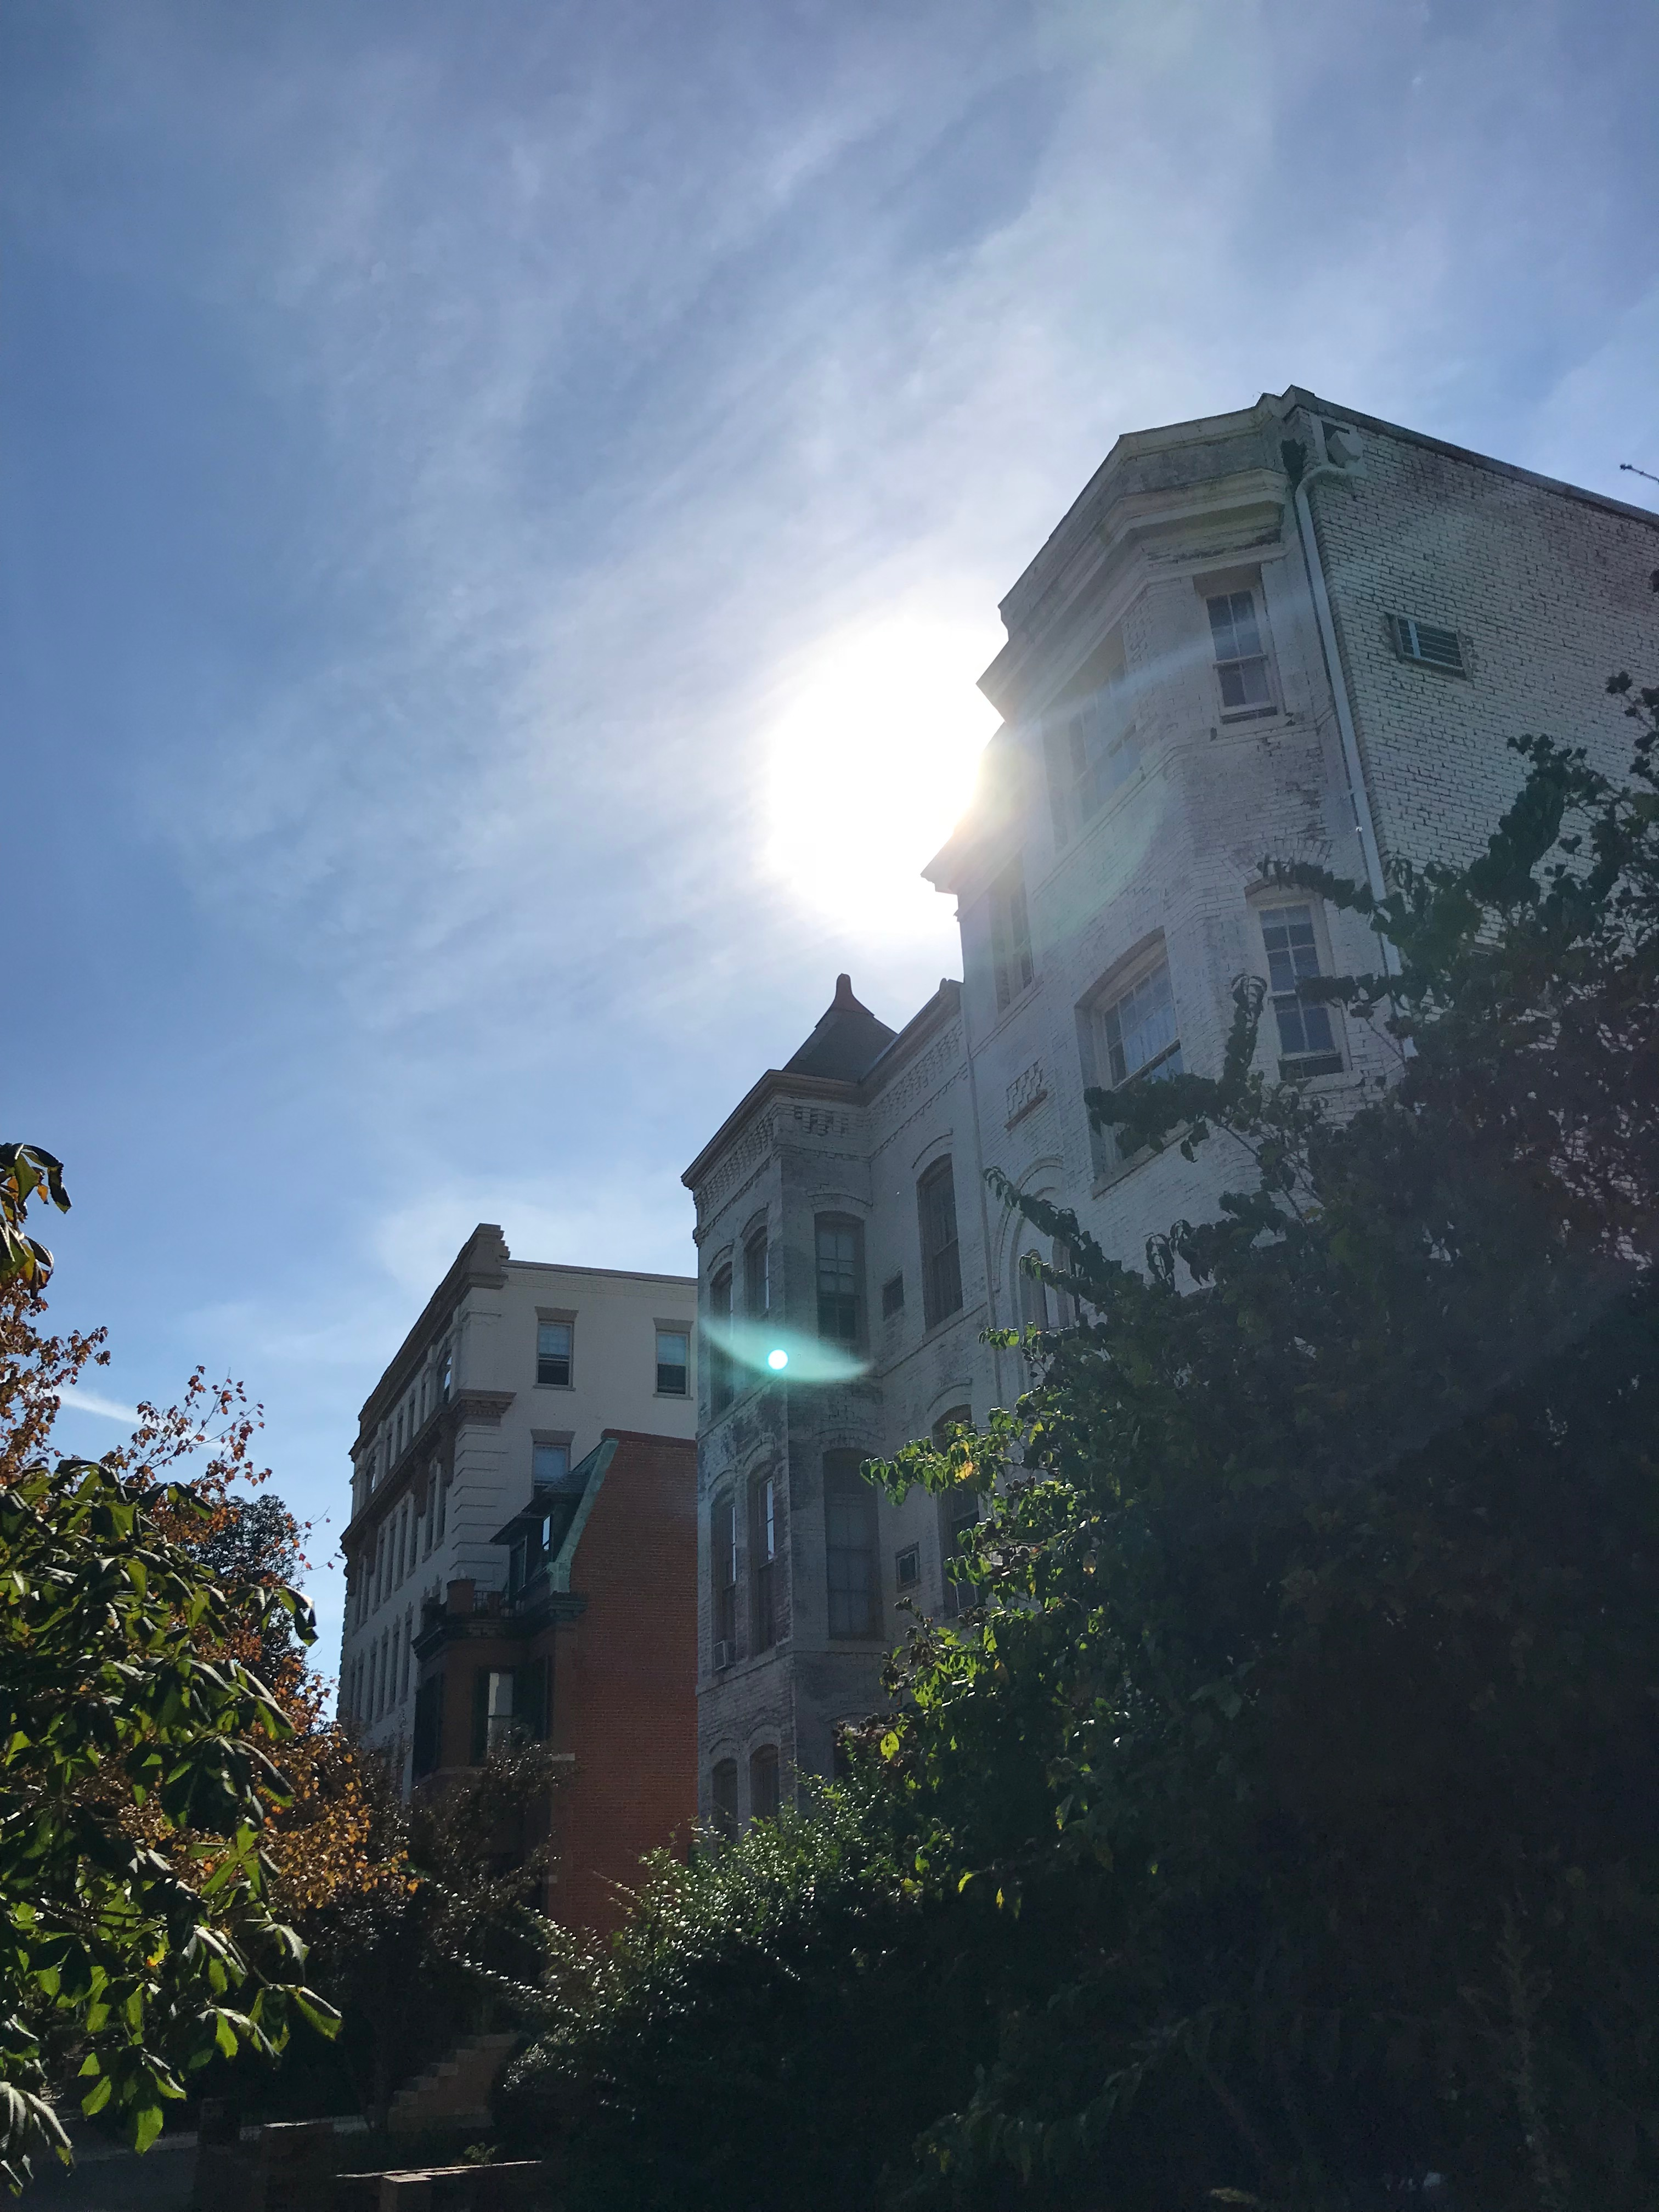flare: (765, 1348, 791, 1372)
